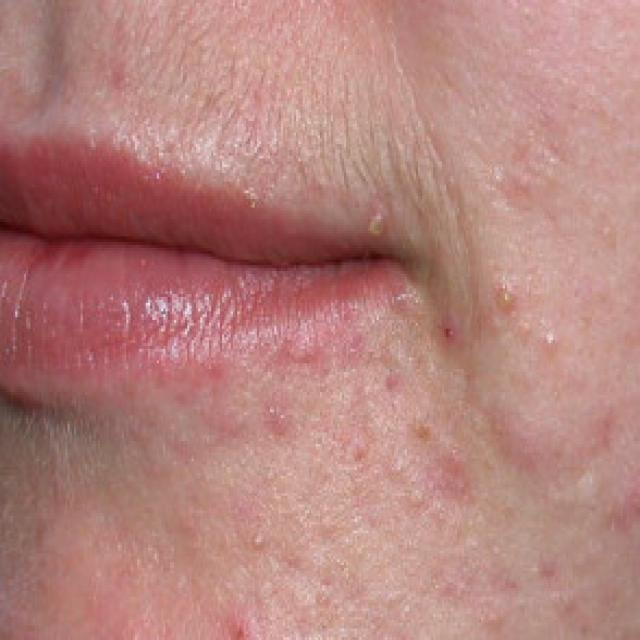blackheads: (349, 198, 398, 246), (284, 326, 322, 363), (540, 325, 558, 357), (496, 287, 514, 318), (252, 528, 266, 556)
